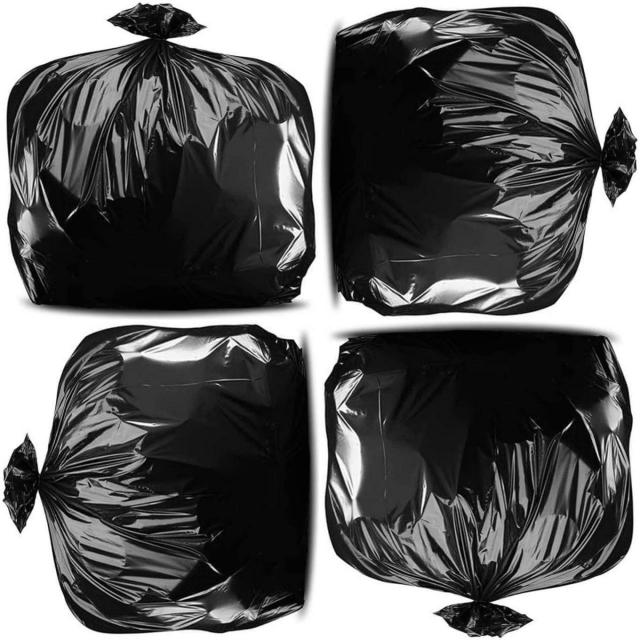Single-layer Plastic: (325, 330, 632, 636), (330, 8, 635, 315), (5, 325, 310, 632), (8, 5, 315, 309)
